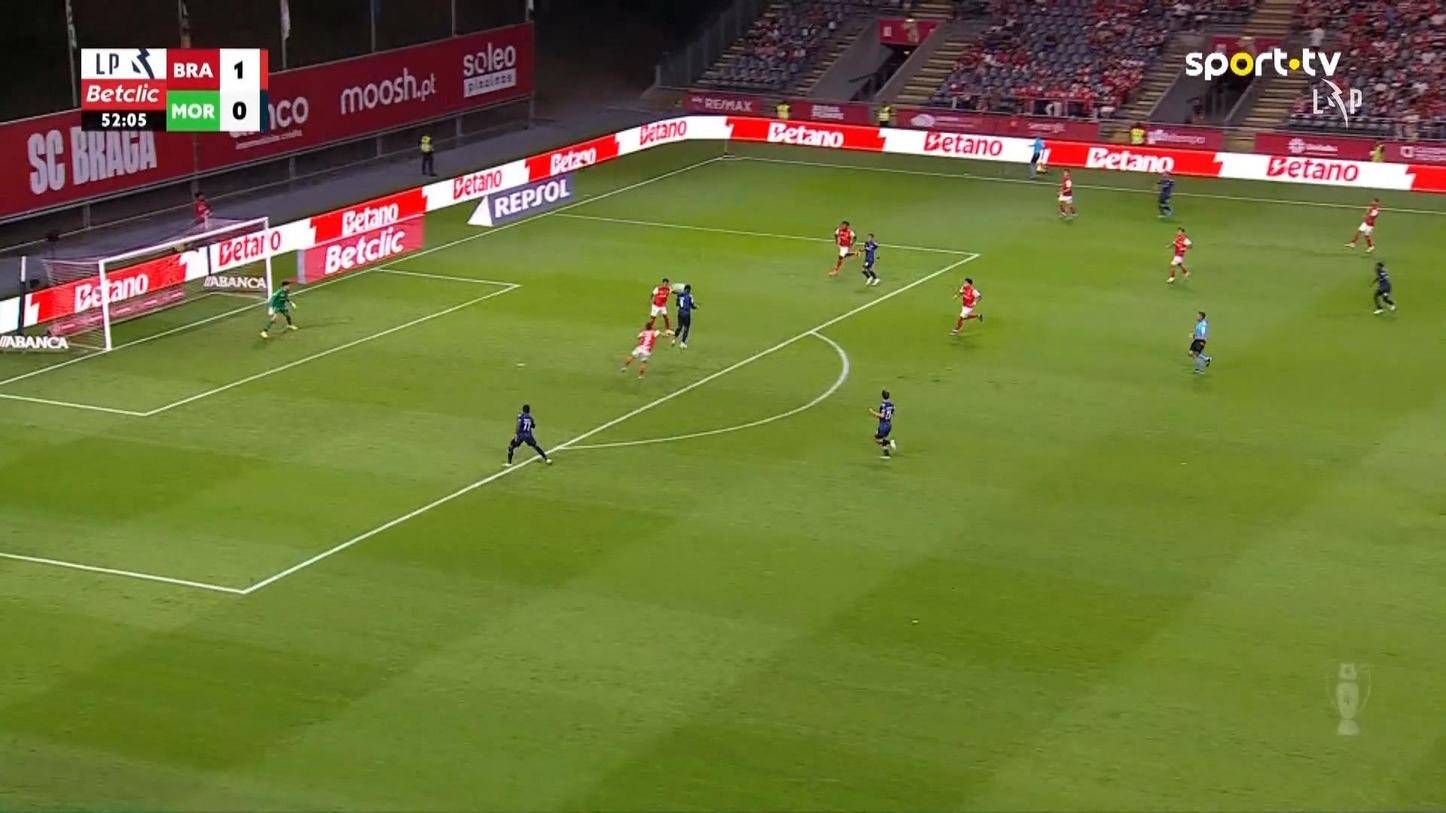ball: (676, 282, 688, 292)
goalkeeper: (259, 279, 298, 338)
player: (619, 320, 674, 379), (502, 403, 553, 466), (949, 276, 984, 336), (867, 389, 897, 458), (1344, 196, 1380, 252), (671, 283, 699, 349), (828, 219, 858, 276), (1164, 225, 1193, 283), (647, 276, 674, 336), (1368, 261, 1397, 315), (860, 232, 881, 286), (1056, 169, 1077, 219), (1155, 168, 1175, 218)
referee: (1187, 310, 1212, 374), (1027, 136, 1048, 178)
